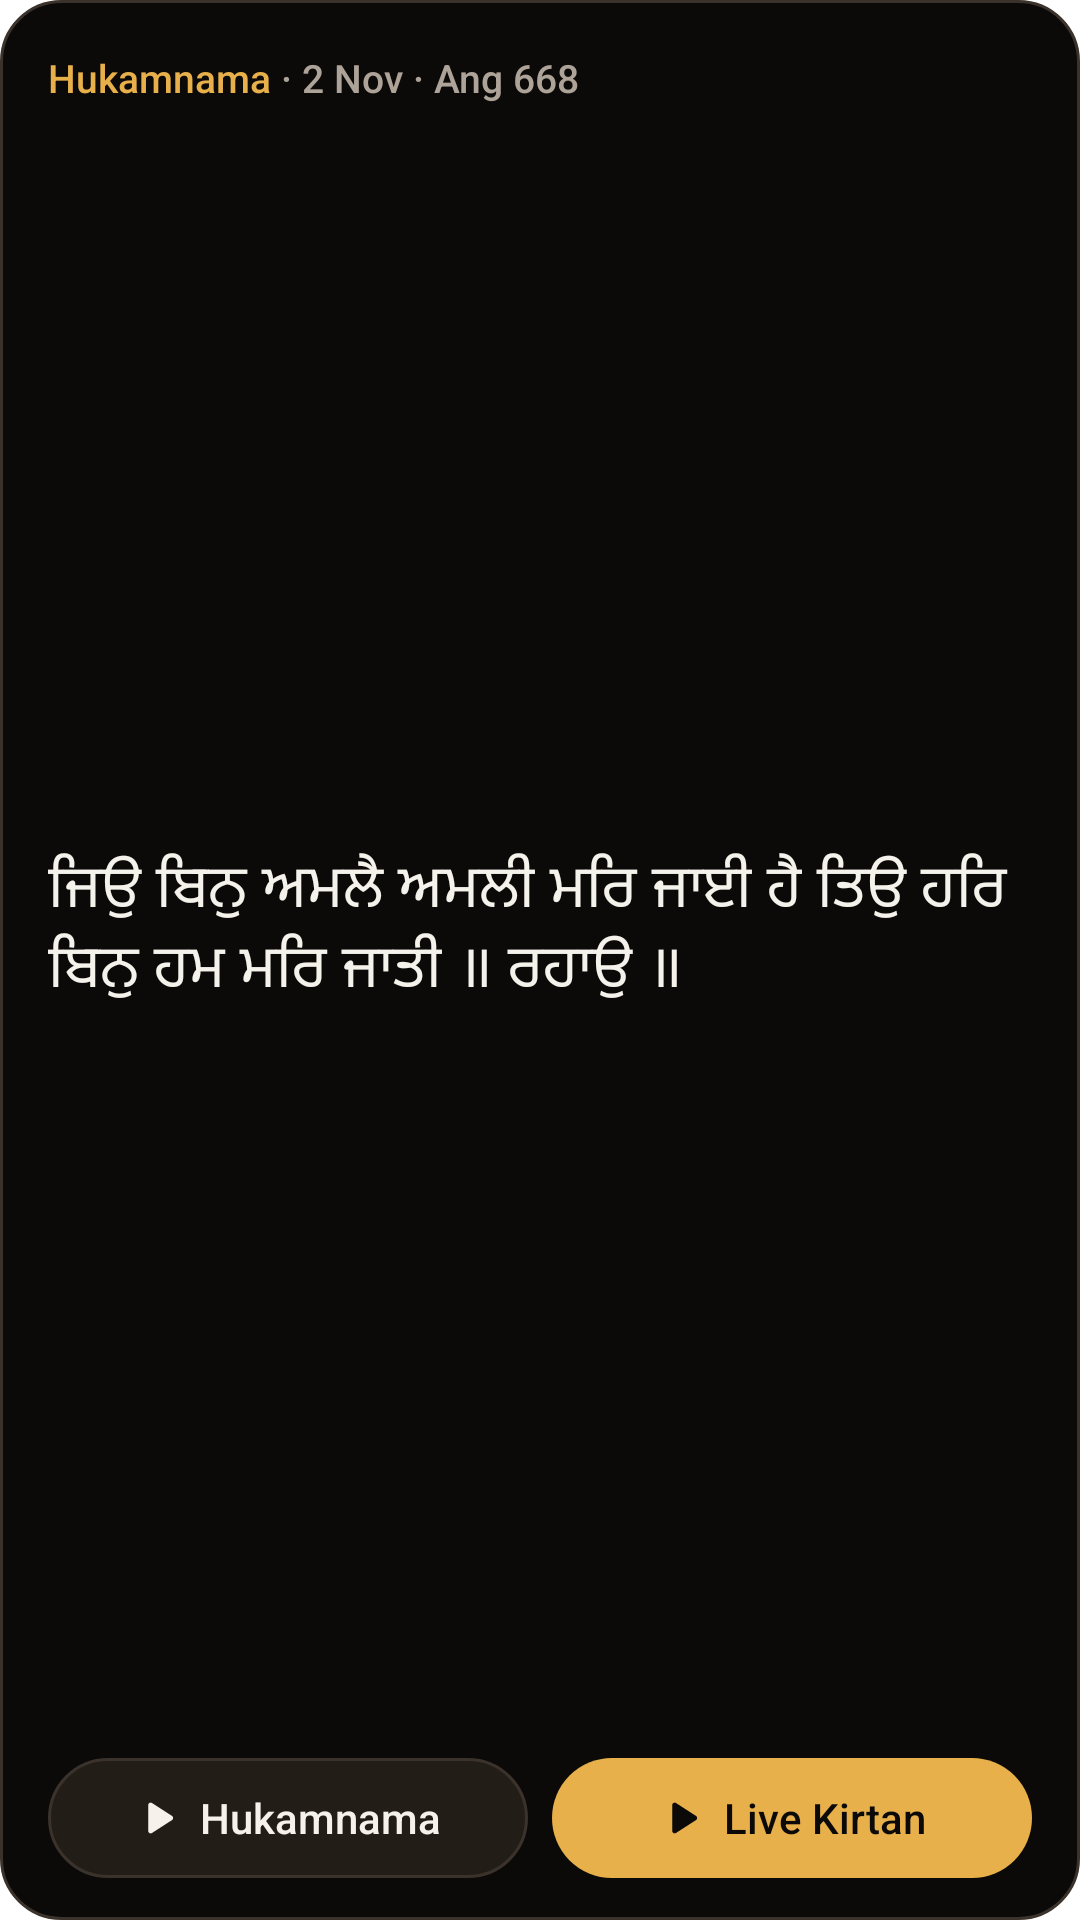

Named icons in this screenshot (1080w x 1920h) and their centers, point (x, y):
widget play: point (160, 1818), point (684, 1818)
